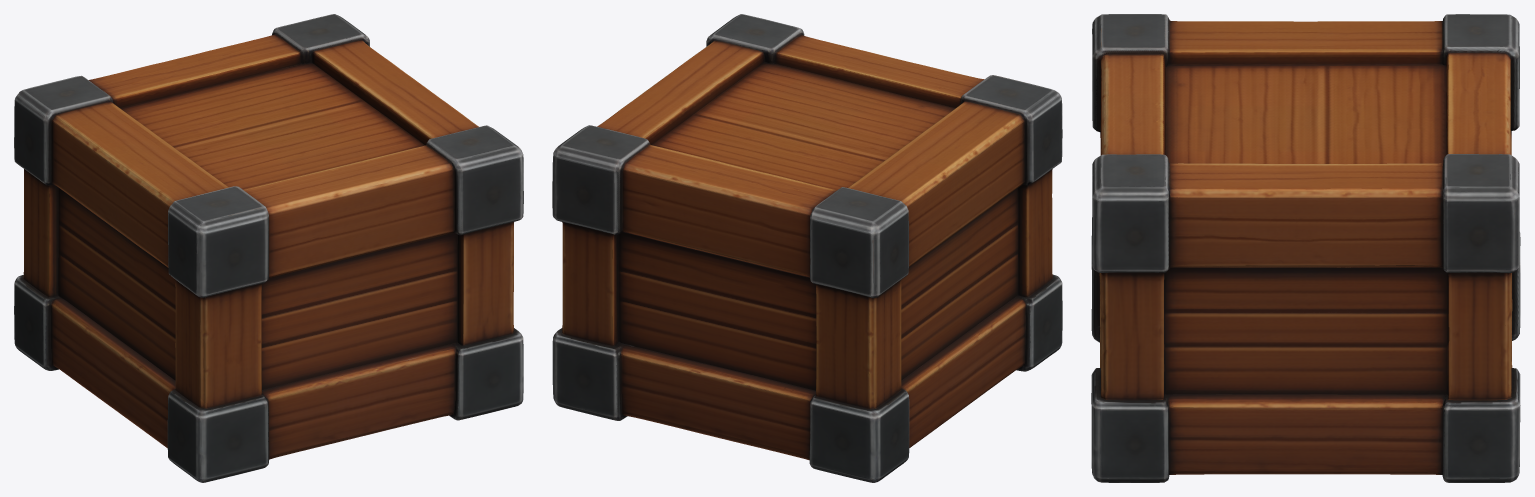
The model's file is WoodenCrate.glb.
3 renders of one model, left to right at view 1: azimuth 30°, elevation 25°; view 2: azimuth 150°, elevation 25°; view 3: azimuth 270°, elevation 25°, orthographic. The views are drawn at different scales.
Parts seen in each view (by area): view 1: world; view 2: world; view 3: world.
Boxes of the visible parts, <box> form: world: <box>14,14,523,482</box>; world: <box>552,14,1062,482</box>; world: <box>1091,14,1520,482</box>.
Bounding box in the file's own units: 0.9937 × 0.7583 × 0.9944.
1 material, 1 textured.
